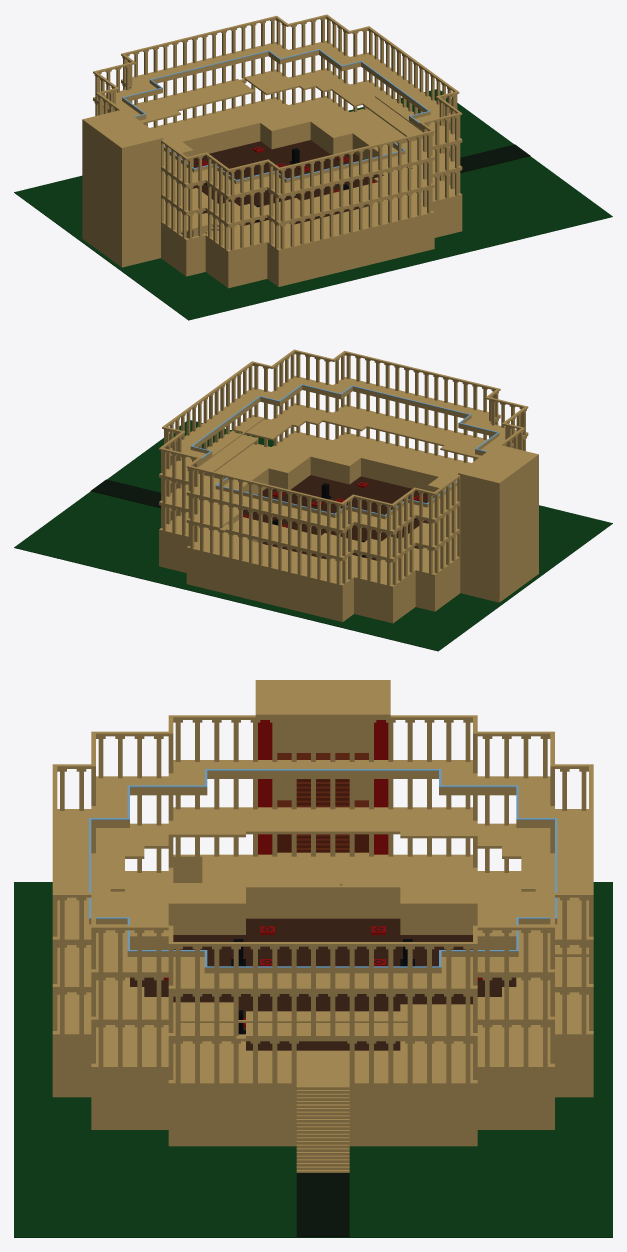
Rendered from GrandMelee.obj.
3 views of the same model, one above another, from view 1: azimuth 30°, elevation 25°; view 2: azimuth 150°, elevation 25°; view 3: azimuth 270°, elevation 25° (orthographic). The views are drawn at different scales.
Visible parts, largest first — view 1: Base1, SmoothBlockModel10, SmoothBlockModel9, SmoothBlockModel106, SmoothBlockModel12, SmoothBlockModel2, SmoothBlockModel79, SmoothBlockModel18, SmoothBlockModel164, SmoothBlockModel105, SmoothBlockModel42, SmoothBlockModel21 (+23 smaller); view 2: Base1, SmoothBlockModel9, SmoothBlockModel10, SmoothBlockModel89, SmoothBlockModel12, SmoothBlockModel5, SmoothBlockModel79, SmoothBlockModel4, SmoothBlockModel18, SmoothBlockModel164, SmoothBlockModel85, SmoothBlockModel57 (+21 smaller); view 3: Base1, SmoothBlockModel18, SmoothBlockModel12, SmoothBlockModel14, SmoothBlockModel21, SmoothBlockModel4, SmoothBlockModel164, SmoothBlockModel44, SmoothBlockModel10, SmoothBlockModel9, SmoothBlockModel3, SmoothBlockModel6 (+46 smaller).
Boxes of the visible parts, left/top/right/bottom form: Base1: left=14, top=89, right=612, bottom=320; SmoothBlockModel10: left=256, top=196, right=434, bottom=286; SmoothBlockModel9: left=150, top=97, right=298, bottom=155; SmoothBlockModel106: left=117, top=140, right=159, bottom=230; SmoothBlockModel12: left=192, top=140, right=368, bottom=225; SmoothBlockModel2: left=205, top=225, right=267, bottom=288; SmoothBlockModel79: left=87, top=124, right=116, bottom=226; SmoothBlockModel18: left=330, top=108, right=454, bottom=188; SmoothBlockModel164: left=82, top=109, right=163, bottom=149; SmoothBlockModel105: left=119, top=223, right=160, bottom=267; SmoothBlockModel42: left=160, top=79, right=254, bottom=111; SmoothBlockModel21: left=411, top=178, right=462, bottom=237; Base1: left=14, top=420, right=612, bottom=651; SmoothBlockModel9: left=186, top=531, right=364, bottom=621; SmoothBlockModel10: left=322, top=432, right=471, bottom=490; SmoothBlockModel89: left=461, top=475, right=504, bottom=565; SmoothBlockModel12: left=252, top=475, right=428, bottom=560; SmoothBlockModel5: left=354, top=560, right=415, bottom=623; SmoothBlockModel79: left=504, top=460, right=533, bottom=561; SmoothBlockModel4: left=396, top=540, right=460, bottom=611; SmoothBlockModel18: left=166, top=443, right=290, bottom=523; SmoothBlockModel164: left=458, top=444, right=538, bottom=484; SmoothBlockModel85: left=460, top=558, right=501, bottom=602; SmoothBlockModel57: left=366, top=414, right=460, bottom=446; Base1: left=14, top=882, right=612, bottom=1237; SmoothBlockModel18: left=168, top=1050, right=477, bottom=1146; SmoothBlockModel12: left=173, top=935, right=472, bottom=1050; SmoothBlockModel14: left=477, top=1034, right=554, bottom=1129; SmoothBlockModel21: left=91, top=1034, right=168, bottom=1129; SmoothBlockModel4: left=342, top=854, right=477, bottom=918; SmoothBlockModel164: left=255, top=680, right=390, bottom=717; SmoothBlockModel44: left=246, top=807, right=400, bottom=834; SmoothBlockModel10: left=52, top=903, right=129, bottom=1097; SmoothBlockModel9: left=516, top=903, right=593, bottom=1097; SmoothBlockModel3: left=168, top=887, right=245, bottom=934; SmoothBlockModel6: left=400, top=887, right=477, bottom=934.
Size of the model in its own units: 348 by 94 by 248.
Materials: 11 (1 with a texture image).
